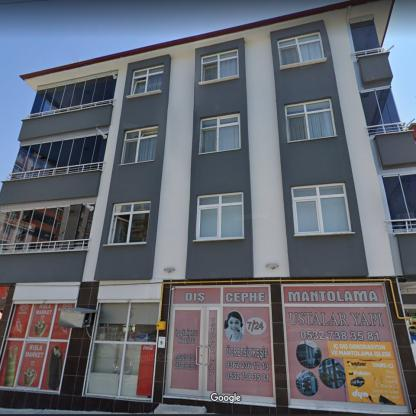door: (168, 305, 220, 400)
window: (86, 302, 160, 398), (0, 204, 95, 252), (10, 132, 108, 178), (28, 74, 117, 118), (292, 184, 350, 234), (286, 99, 336, 142), (198, 193, 243, 239), (359, 88, 403, 134), (383, 173, 416, 232), (108, 202, 150, 244), (200, 115, 240, 153), (278, 34, 324, 66), (121, 126, 158, 164), (350, 18, 382, 56), (201, 50, 237, 82), (131, 66, 163, 95)
